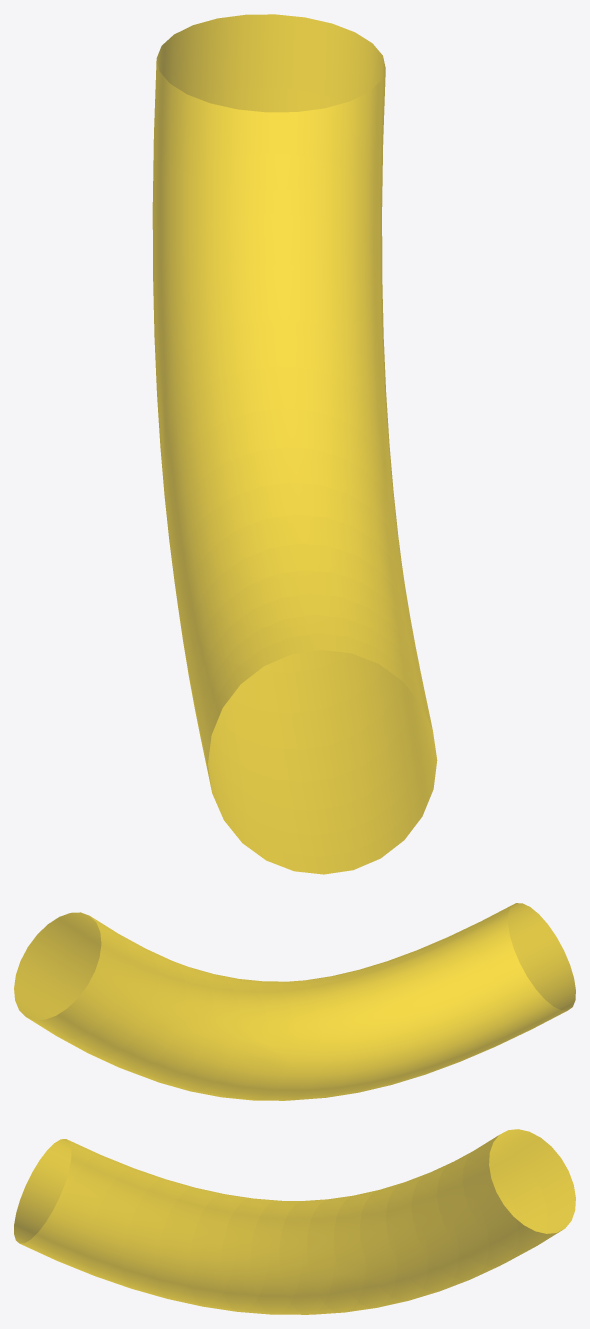
File: Event_15818458_track_51.fbx
3 renders of one model, top to bottom at view 1: azimuth 30°, elevation 25°; view 2: azimuth 150°, elevation 25°; view 3: azimuth 270°, elevation 25°, orthographic. The views are drawn at different scales.
Parts seen in each view (by area): view 1: Model; view 2: Model; view 3: Model.
Part boxes in pixels (x1,y1,x2,y2): Model: [152, 14, 437, 874]; Model: [14, 903, 575, 1100]; Model: [14, 1129, 575, 1314].
Size of the model in its own units: 0.1242 by 0.0891 by 0.1959.
